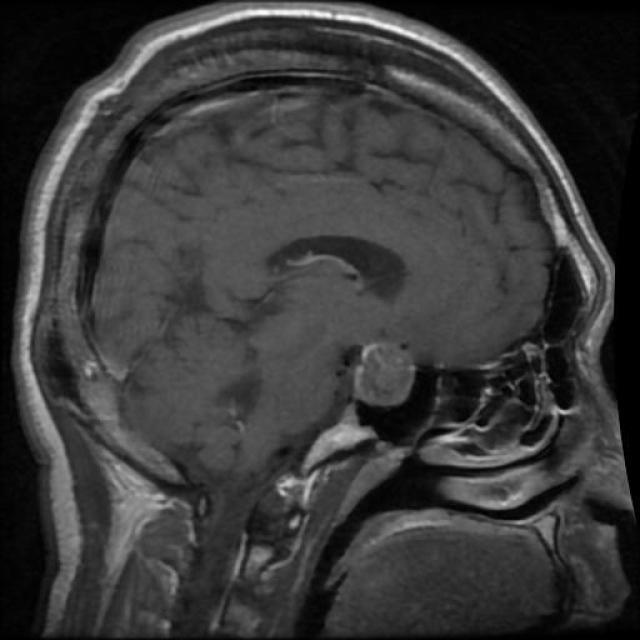pituitary: (340, 331, 420, 410)
